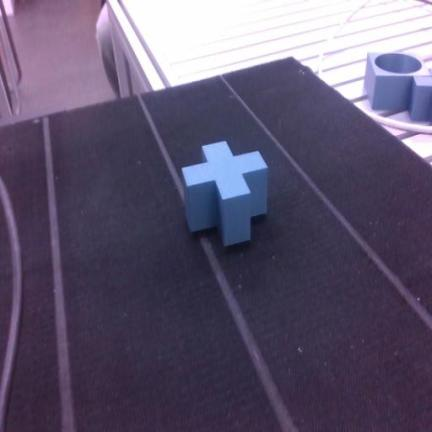cross: (183, 142, 267, 246)
